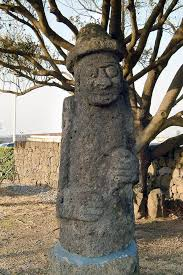Stone Statue: (43, 19, 149, 275)
